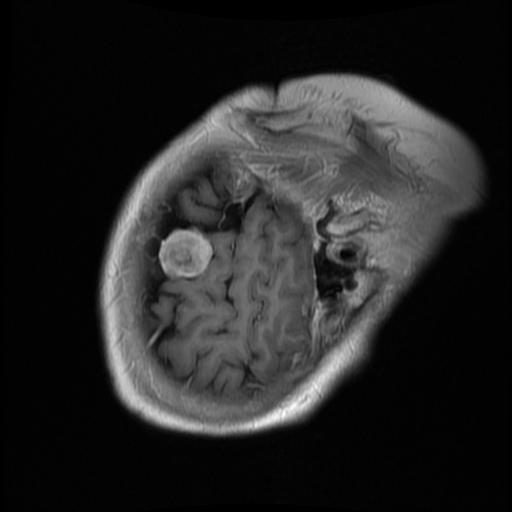meningioma: (157, 228, 214, 279)
